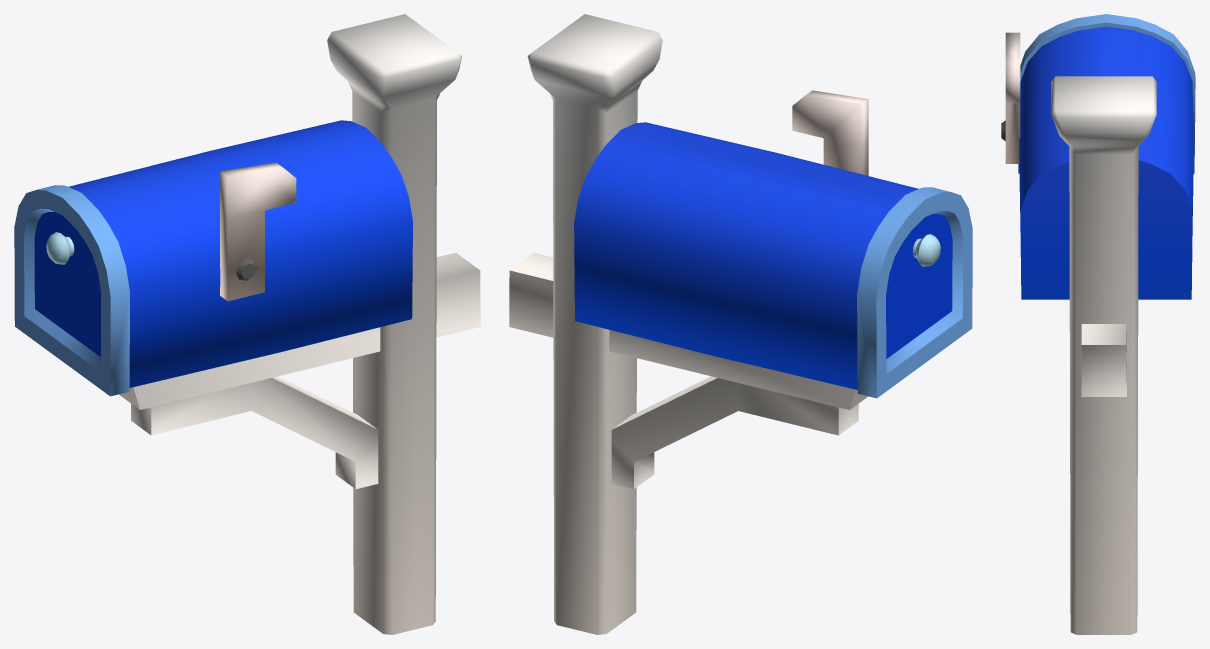
The model's file is Props_Mailbox_01.glb.
The picture shows the model from 3 angles, left to right: view 1: azimuth 30°, elevation 25°; view 2: azimuth 150°, elevation 25°; view 3: azimuth 270°, elevation 25°; orthographic projection. The views are drawn at different scales.
Visible parts, largest first — view 1: Props_Mailbox_01; view 2: Props_Mailbox_01; view 3: Props_Mailbox_01.
Part boxes in pixels (x1,y1,x2,y2): Props_Mailbox_01: (14,14,480,634); Props_Mailbox_01: (509,14,972,634); Props_Mailbox_01: (1001,14,1195,634).
Bounding box in the file's own units: 1.42 × 1.87 × 0.6211.
Materials: 1 (1 with a texture image).
